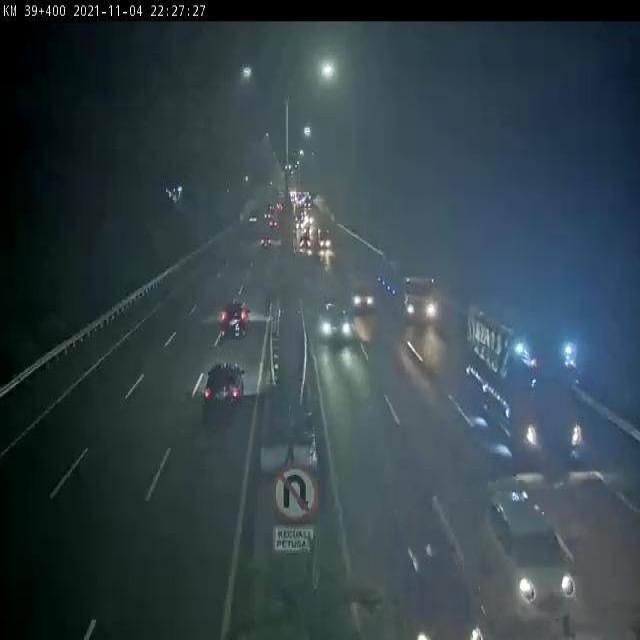car: (485, 480, 575, 623), (401, 524, 486, 640), (205, 363, 247, 413), (319, 302, 351, 342), (220, 304, 249, 336), (351, 288, 374, 313)
truck-l-: (466, 305, 582, 459)
truck-xl-: (367, 251, 440, 321)
